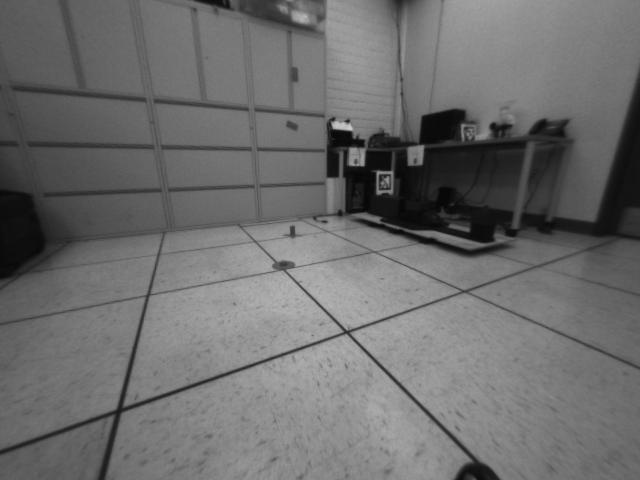X: (283, 225, 302, 239)
